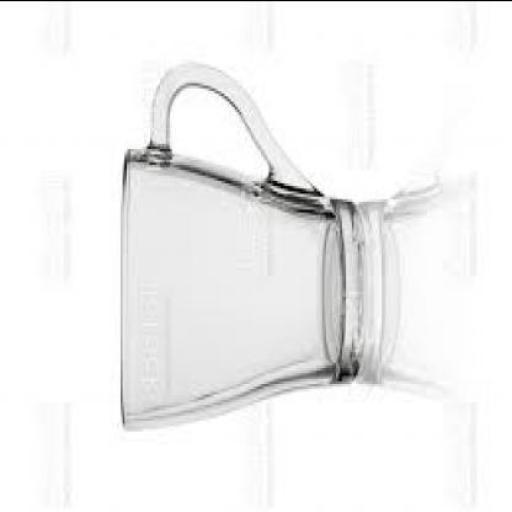glass: (117, 61, 365, 428)
